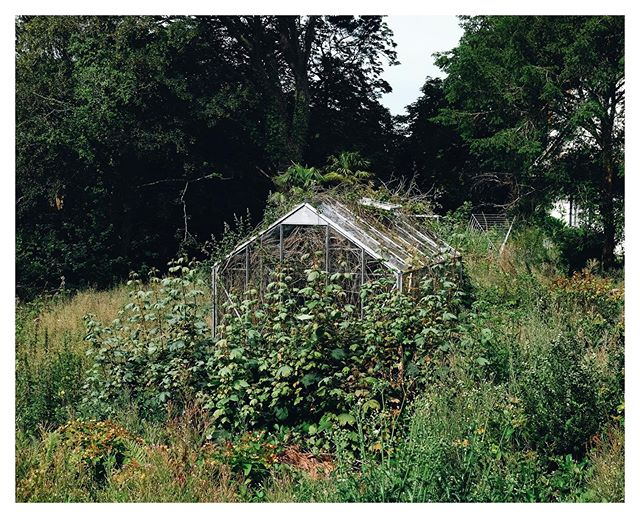building: (211, 186, 460, 346)
tree: (40, 1, 384, 195), (437, 16, 640, 239)
vegetation: (16, 242, 640, 518)
